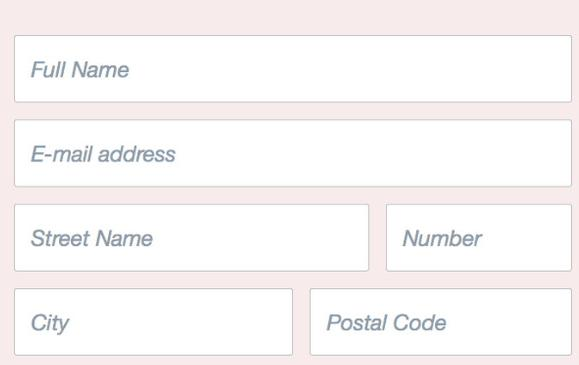field: (13, 119, 572, 188), (13, 35, 573, 103), (13, 204, 370, 273), (13, 288, 294, 357), (309, 288, 573, 356), (385, 204, 573, 272)
